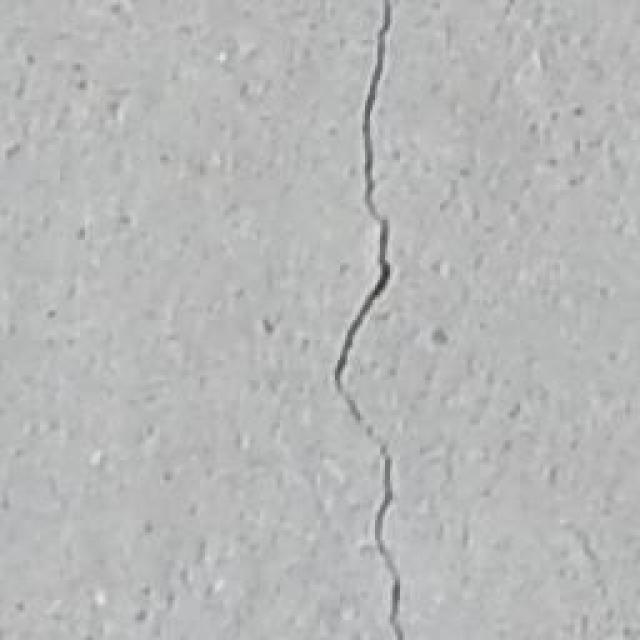concrete-crack: (324, 1, 413, 640)
